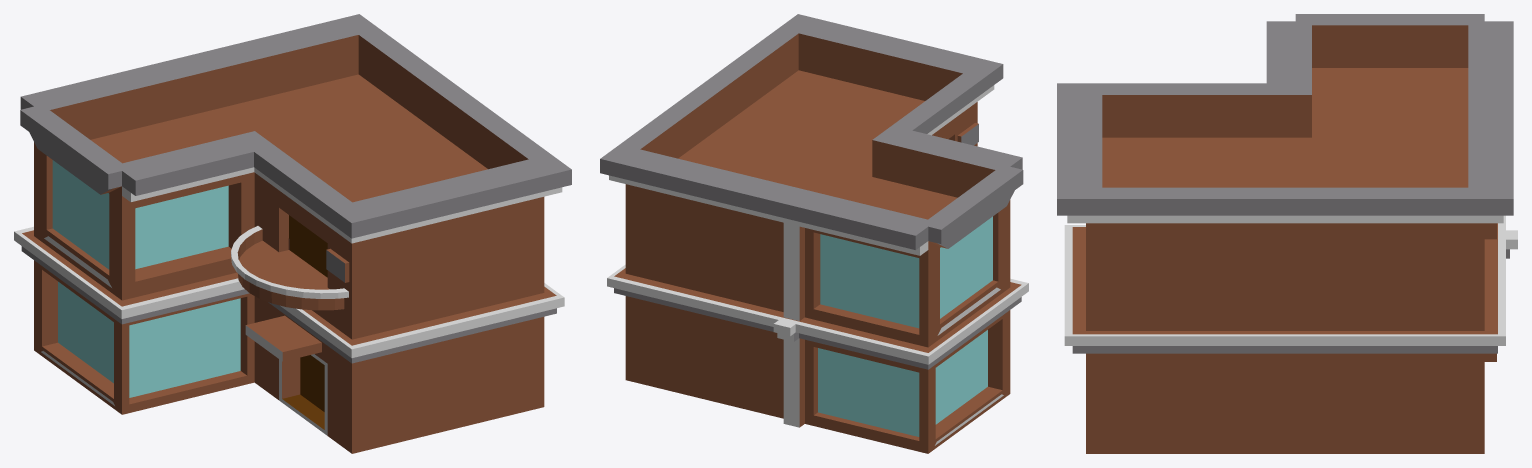
The model's file is house.fbx.
3 renders of one model, left to right at view 1: azimuth 30°, elevation 25°; view 2: azimuth 150°, elevation 25°; view 3: azimuth 270°, elevation 25°, orthographic. The views are drawn at different scales.
Visible parts, largest first — view 1: Cube; view 2: Cube; view 3: Cube.
Boxes of the visible parts, box(x1,y1,x2,y2) form: Cube: box(14, 14, 571, 453); Cube: box(600, 14, 1028, 453); Cube: box(1057, 14, 1517, 453).
Bounding box in the file's own units: 1204 × 796 × 1268.
